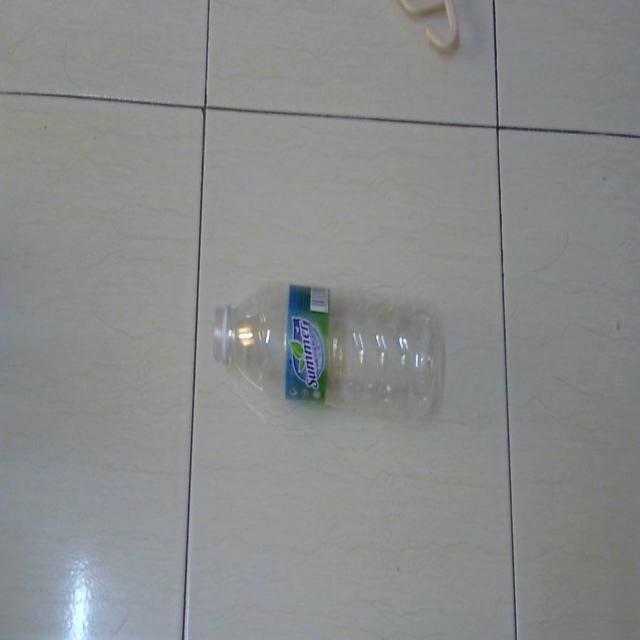plastic_laydown_0rotation: (207, 275, 445, 441)
